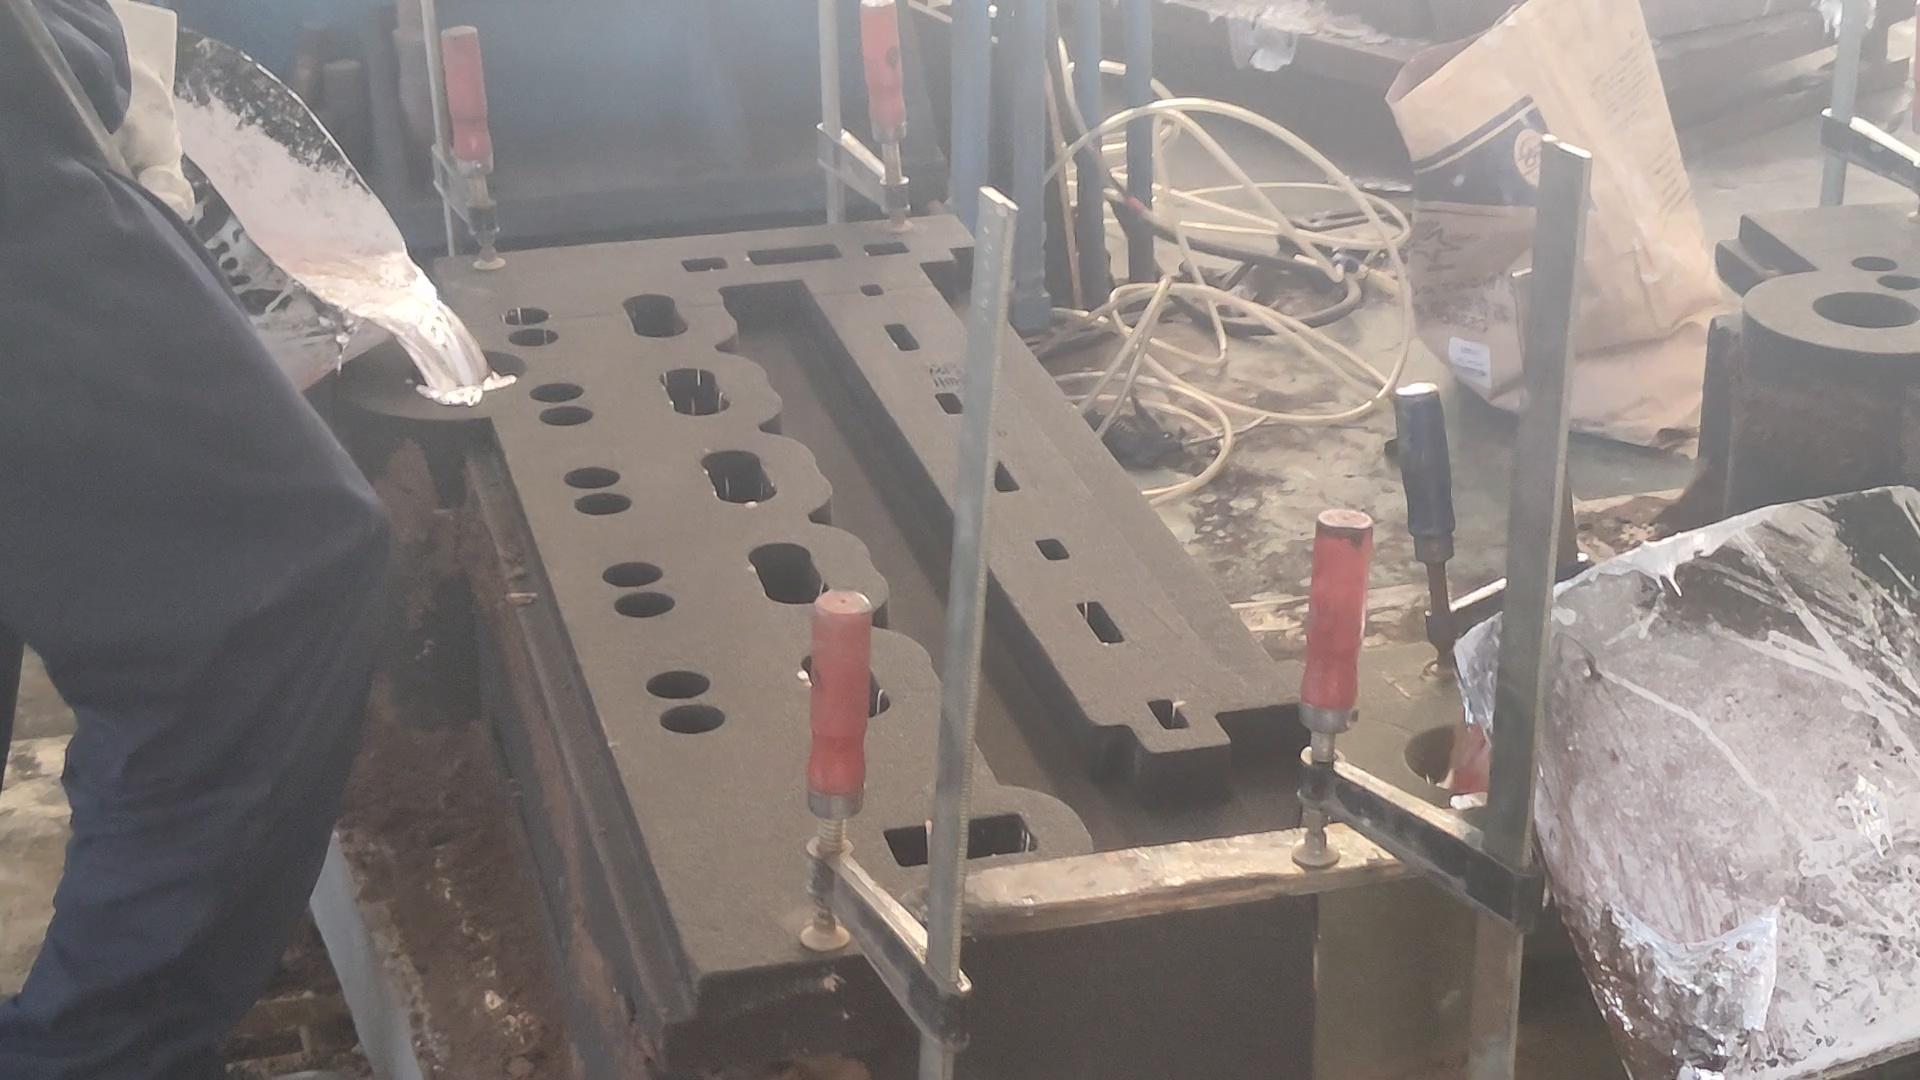pouring hole: (1404, 721, 1511, 794), (407, 348, 527, 393), (1812, 289, 1920, 330)
